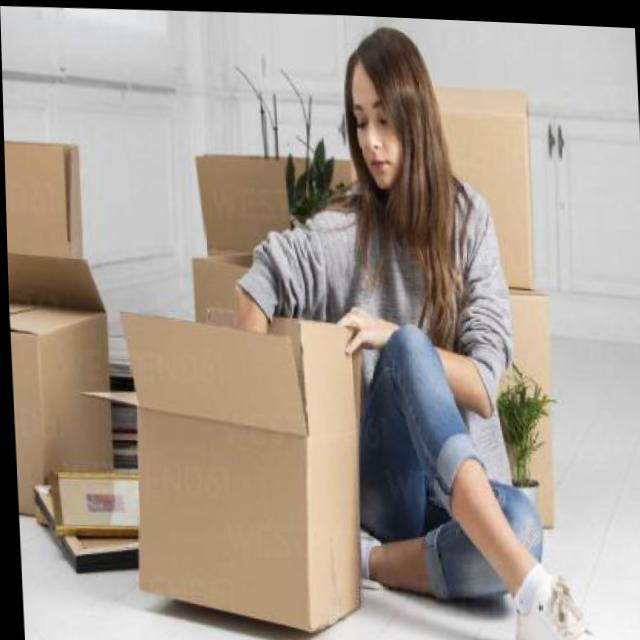box: (109, 291, 385, 640), (3, 110, 121, 516), (176, 130, 353, 319), (420, 52, 556, 294), (486, 289, 584, 540)
